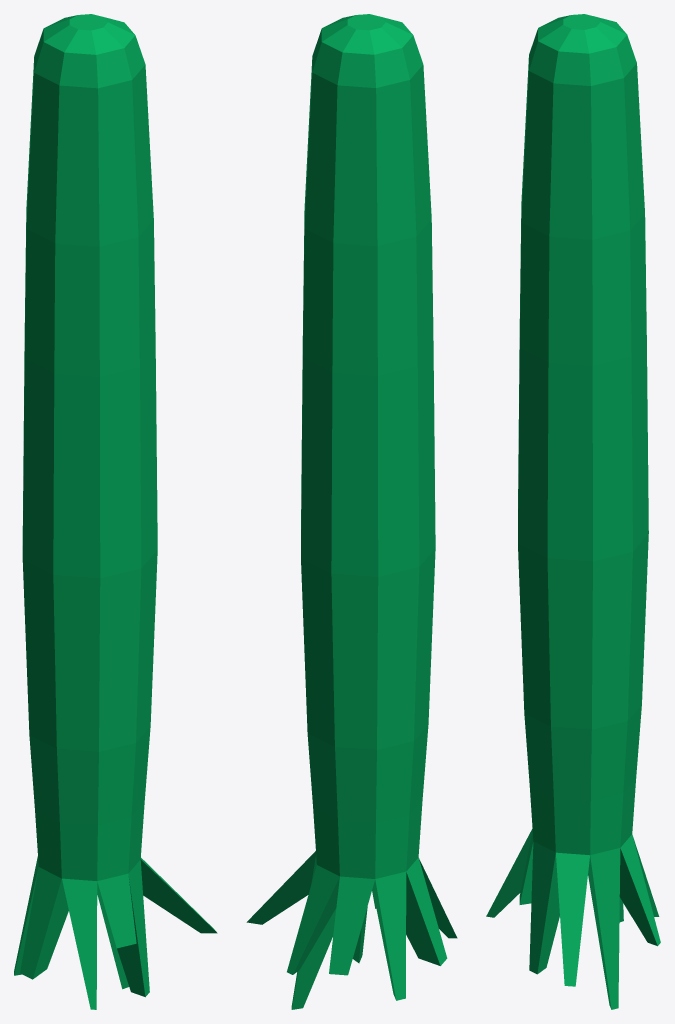
Rendered from SeguaroCactusMedium1_LOD0.fbx.
The picture shows the model from 3 angles, left to right: view 1: azimuth 30°, elevation 25°; view 2: azimuth 150°, elevation 25°; view 3: azimuth 270°, elevation 25°; orthographic projection. The views are drawn at different scales.
Parts seen in each view (by area): view 1: SeguaroCactusMedium1_LOD0; view 2: SeguaroCactusMedium1_LOD0; view 3: SeguaroCactusMedium1_LOD0.
Part boxes in pixels (x1,y1,x2,y2): SeguaroCactusMedium1_LOD0: (14,14,217,1009); SeguaroCactusMedium1_LOD0: (246,14,457,1009); SeguaroCactusMedium1_LOD0: (486,14,660,1009).
Size of the model in its own units: 38.16 by 231 by 47.52.
